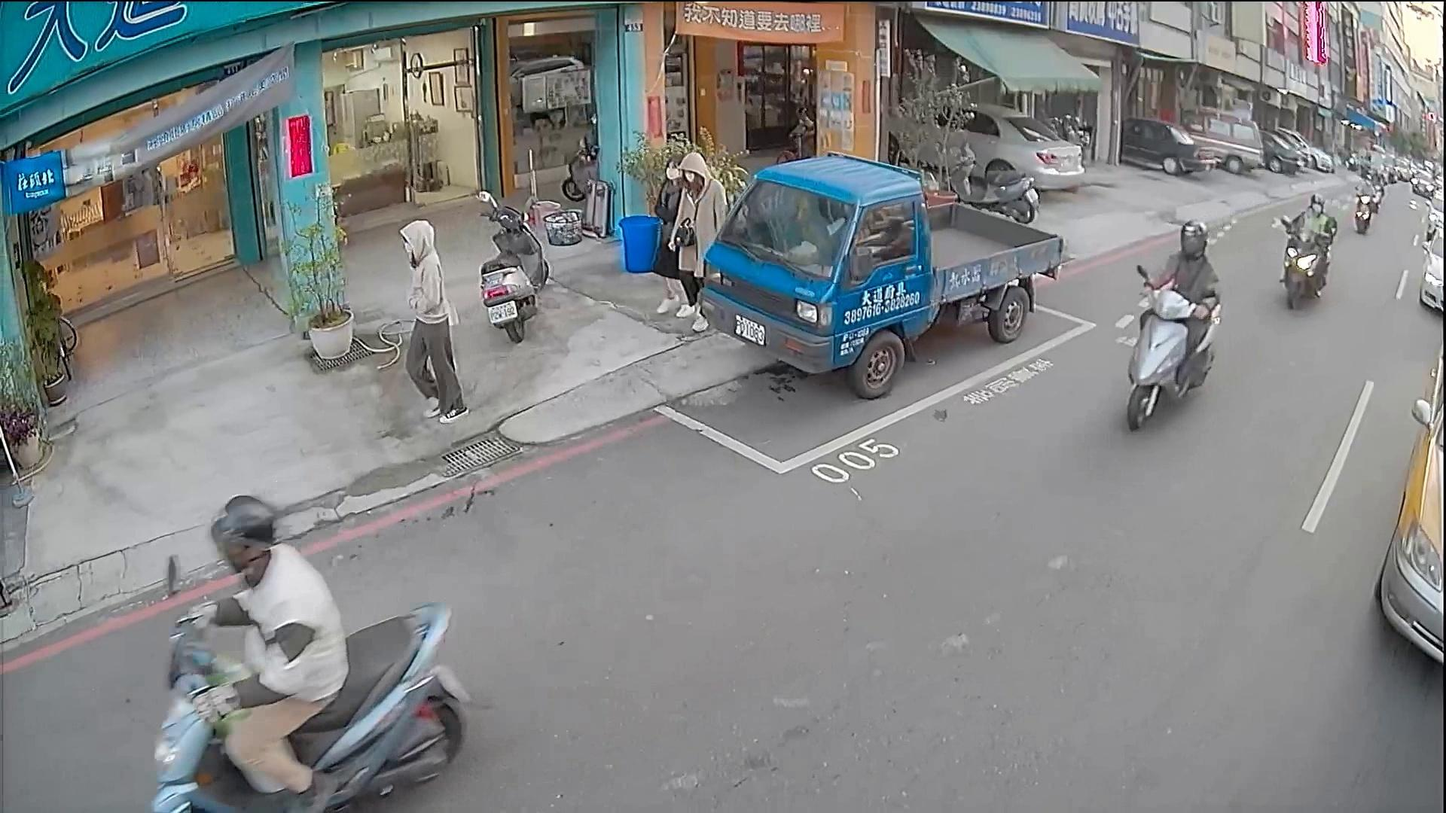person: (173, 488, 358, 810), (389, 217, 473, 422), (1136, 218, 1220, 391), (660, 149, 731, 327), (650, 162, 701, 308), (1274, 193, 1335, 294), (1350, 167, 1375, 199)
